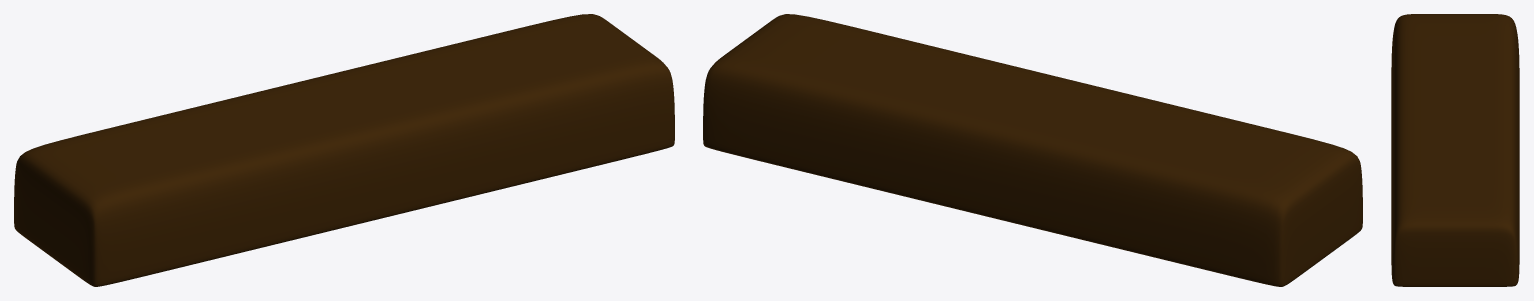
File: Log.fbx
3 renders of one model, left to right at view 1: azimuth 30°, elevation 25°; view 2: azimuth 150°, elevation 25°; view 3: azimuth 270°, elevation 25°, orthographic. The views are drawn at different scales.
Parts seen in each view (by area): view 1: Cube.069; view 2: Cube.069; view 3: Cube.069.
Part boxes in pixels (box(x1,y1,x2,y2)): Cube.069: box(14, 14, 674, 286); Cube.069: box(703, 14, 1362, 286); Cube.069: box(1391, 14, 1519, 286).
Bounding box in the file's own units: 795 × 112 × 200.
